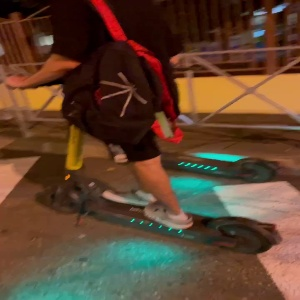human on a scooter: (5, 1, 287, 259)
